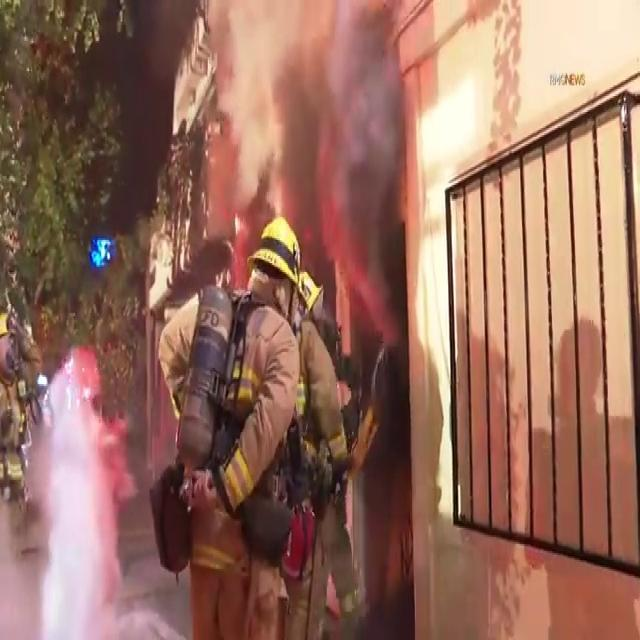Smoke: (219, 0, 436, 208)
